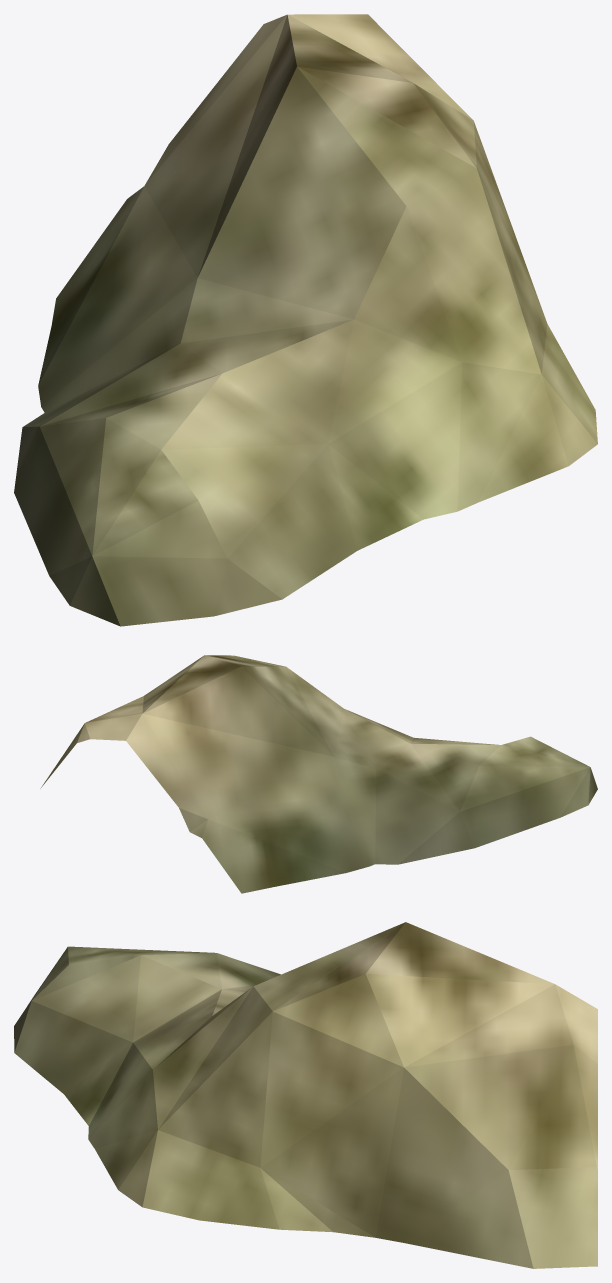
3 renders of one model, top to bottom at view 1: azimuth 30°, elevation 25°; view 2: azimuth 150°, elevation 25°; view 3: azimuth 270°, elevation 25°, orthographic. The views are drawn at different scales.
Size of the model in its own units: 0.6953 by 0.2683 by 0.6115.
Materials: 1 (1 with a texture image).
